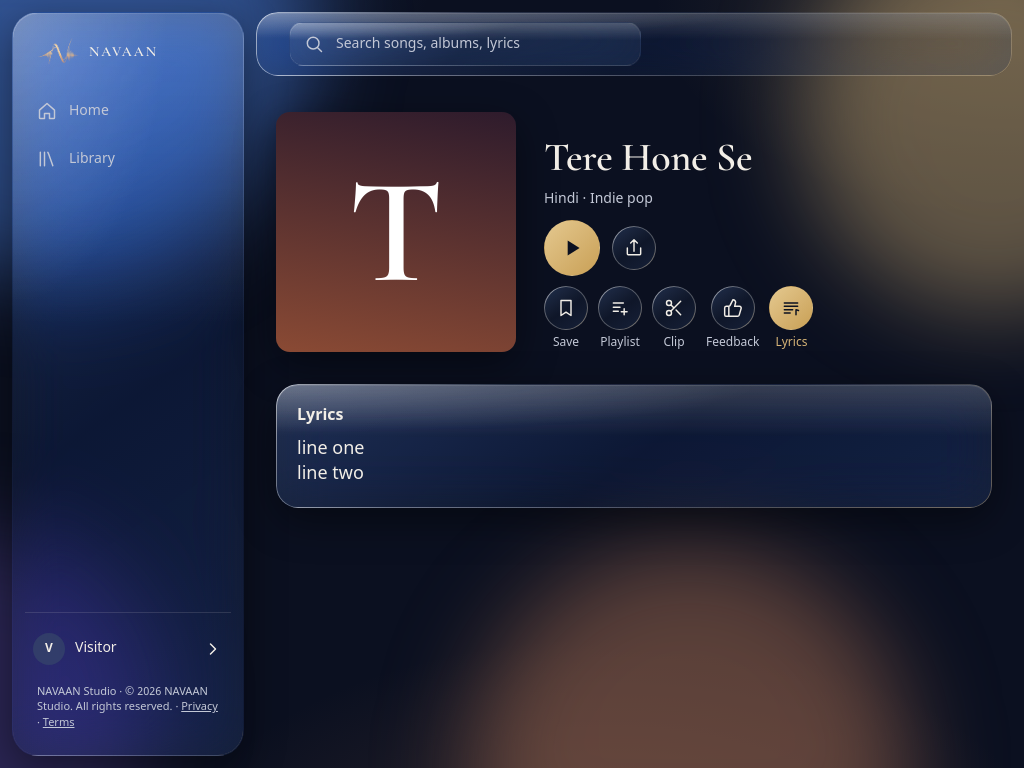
feedback on a song › sends a message with an optional email, never shows the bot field, and says thank you
Click the button named "What did you think?" at [733, 308], box [711,286,755,330]
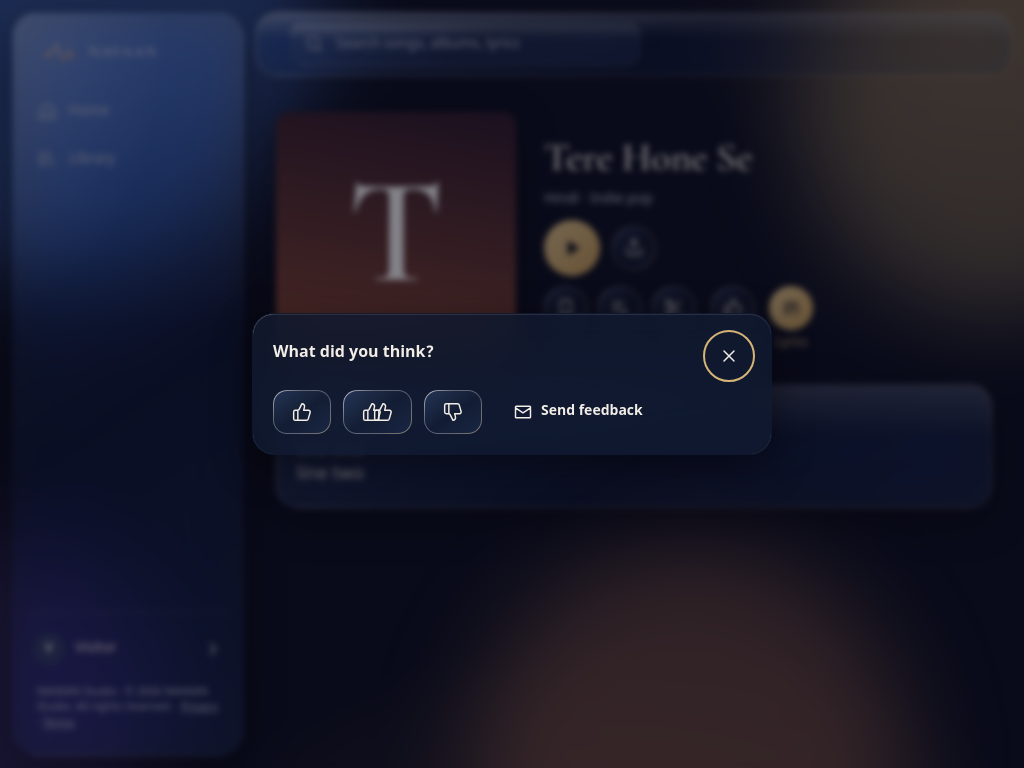
Click the button "Send feedback" at [578, 412], box [494,390,662,434]
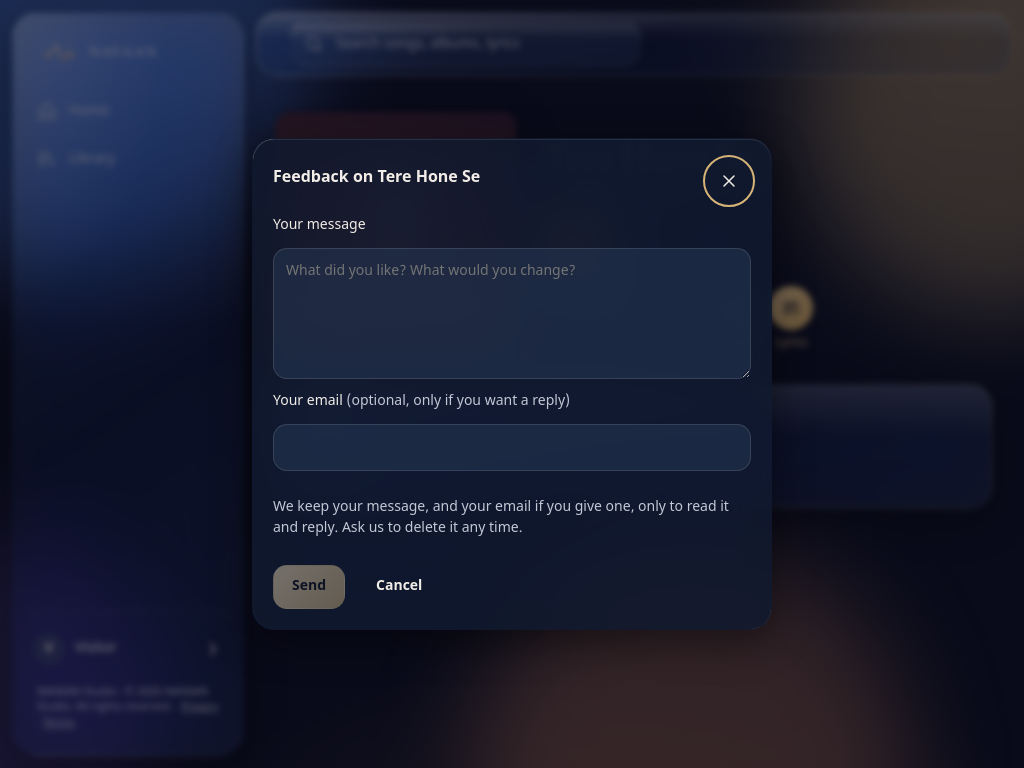
Check: the button "Send" is disabled, box [273,565,345,609]
Type "Lovely second verse" into the text box labelled "Your message" at [512, 314], box [273,248,751,379]
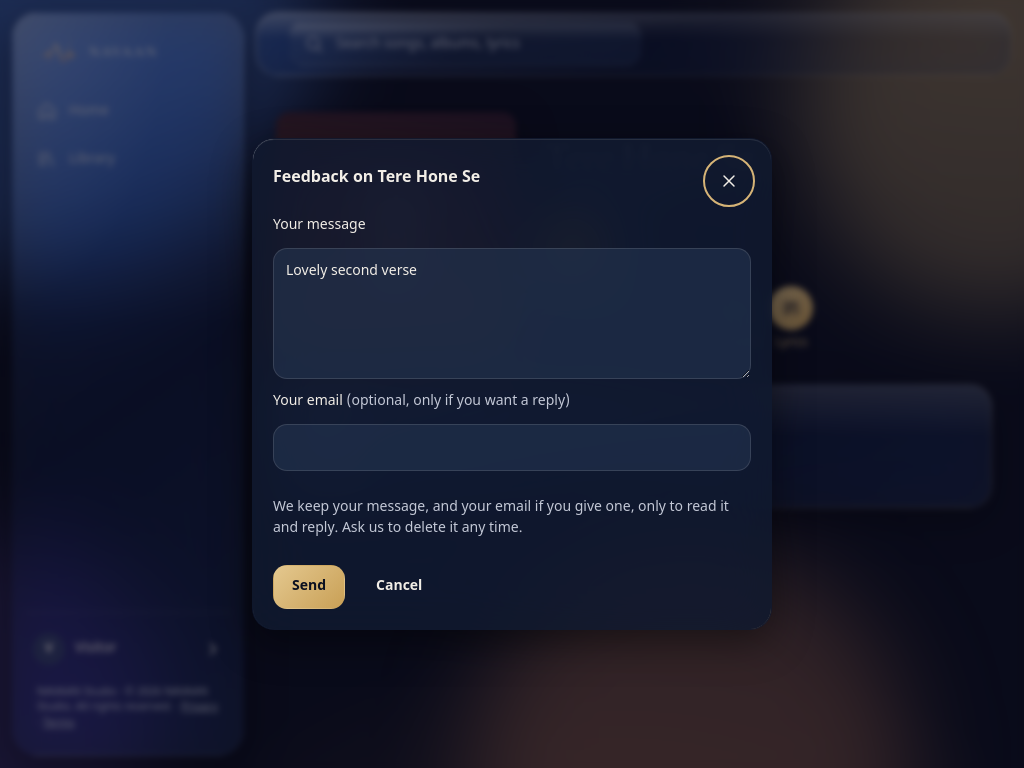
Click the button "Send" at [309, 587], box [273,565,345,609]
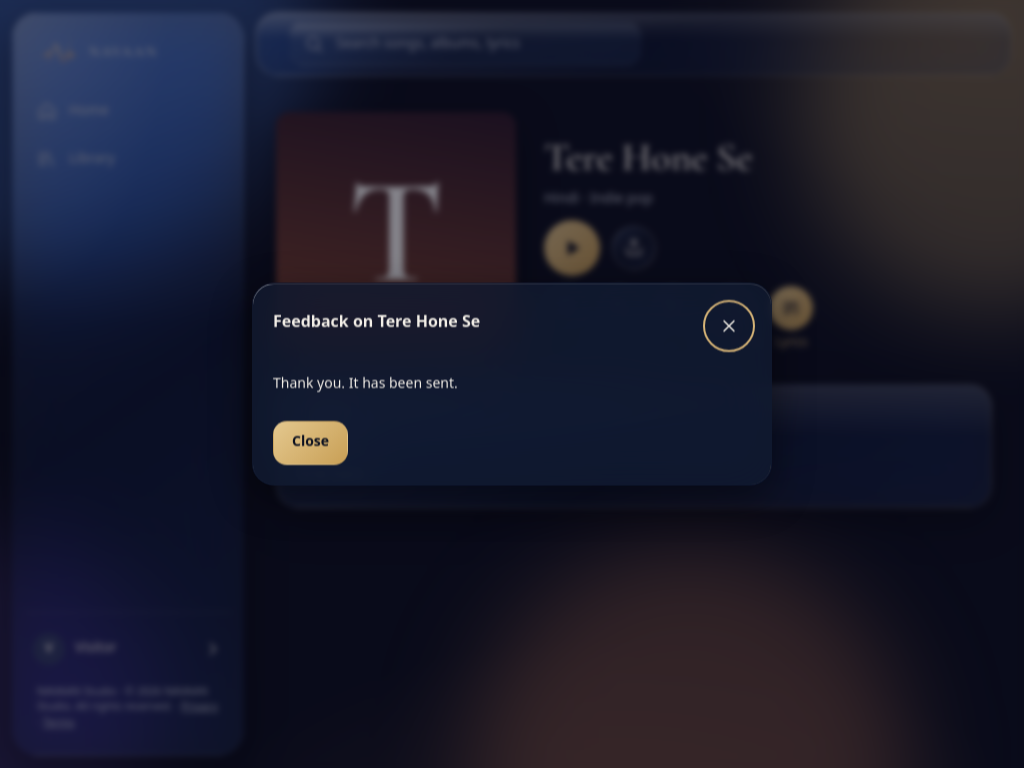
Check: the text "Thank you. It has been sent." is shown, box [273,374,458,394]
